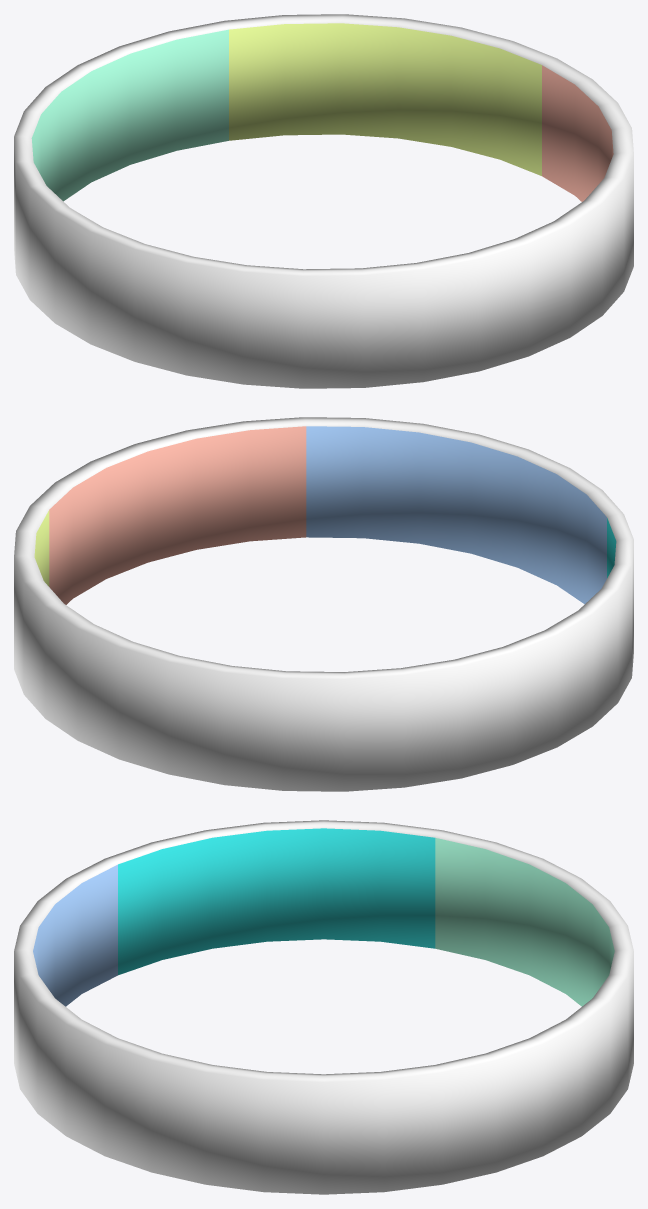
3 views of the same model, one above another, from view 1: azimuth 30°, elevation 25°; view 2: azimuth 150°, elevation 25°; view 3: azimuth 270°, elevation 25° (orthographic).
Visible parts, largest first — view 1: Cylinder; view 2: Cylinder; view 3: Cylinder.
Part boxes in pixels (bbox=[...]): Cylinder: bbox=[14, 14, 633, 388]; Cylinder: bbox=[14, 417, 633, 791]; Cylinder: bbox=[14, 820, 633, 1194].
Bounding box in the file's own units: 1000 × 204 × 1000.
